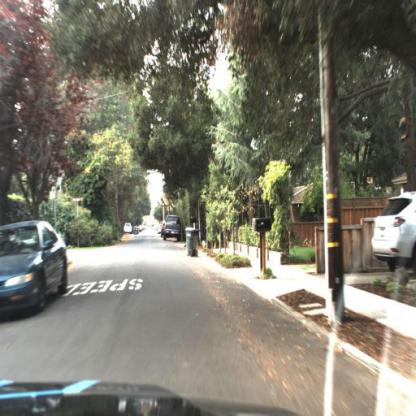car: (1, 222, 69, 325), (371, 192, 416, 276), (161, 211, 182, 244), (121, 217, 135, 241)
